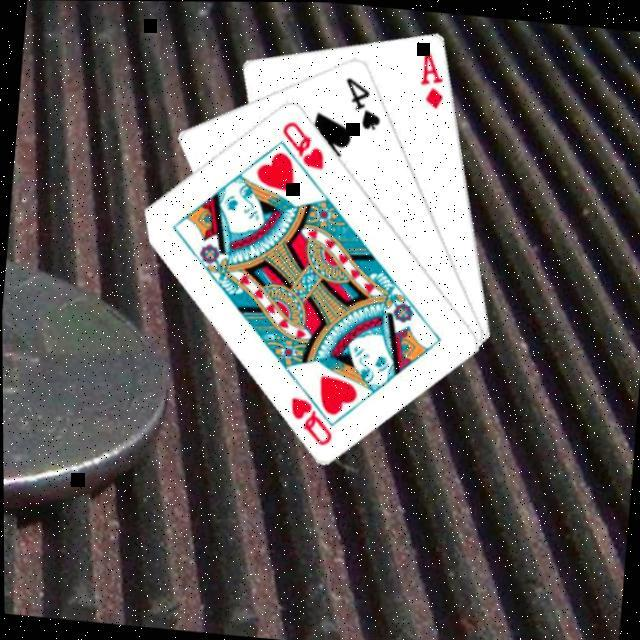4S: (341, 72, 388, 132)
AD: (416, 46, 452, 110)
QH: (284, 378, 342, 448), (278, 116, 332, 171)
